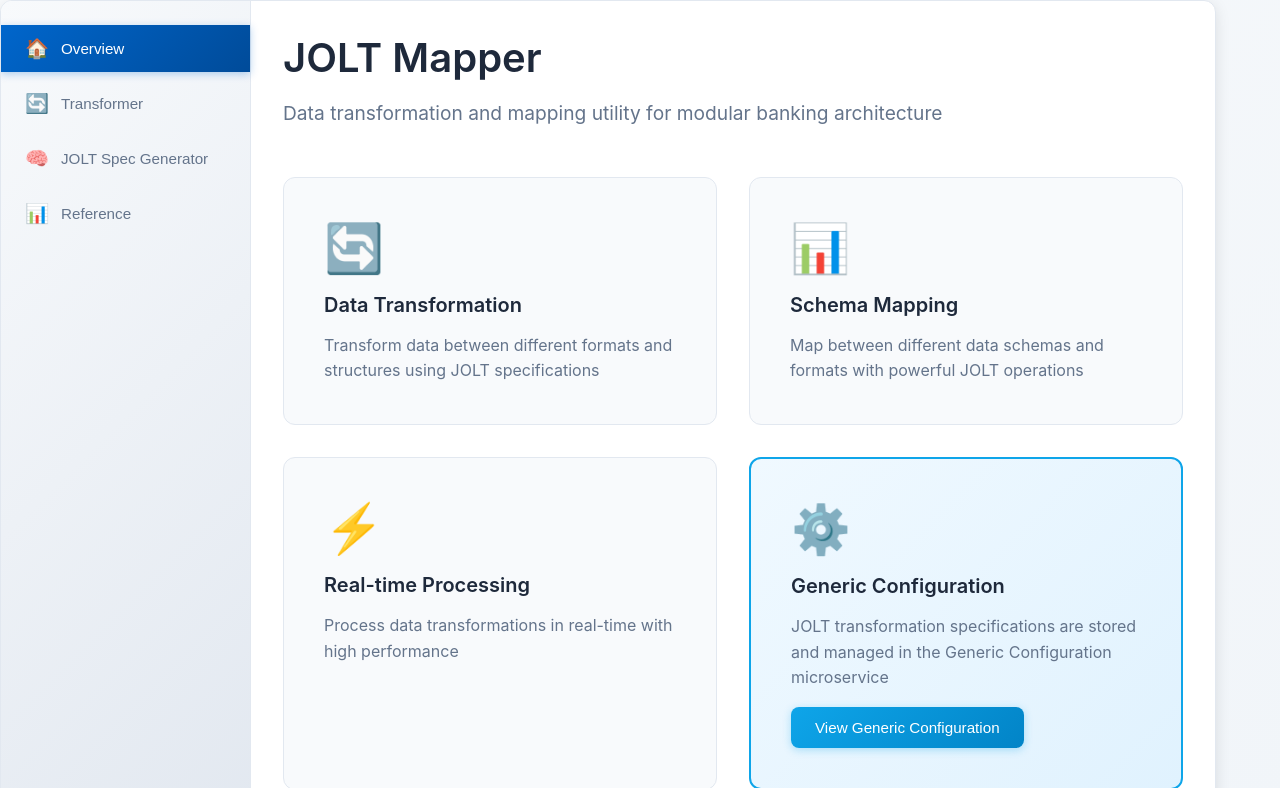
Test: JoltMapper Component › shows generator section when JOLT Spec Generator button is clicked
What coordinates should you click on to do the following:
click the button "🧠 JOLT Spec Generator"
I would click on:
 (126, 158)
Its box is [1,135,250,182].
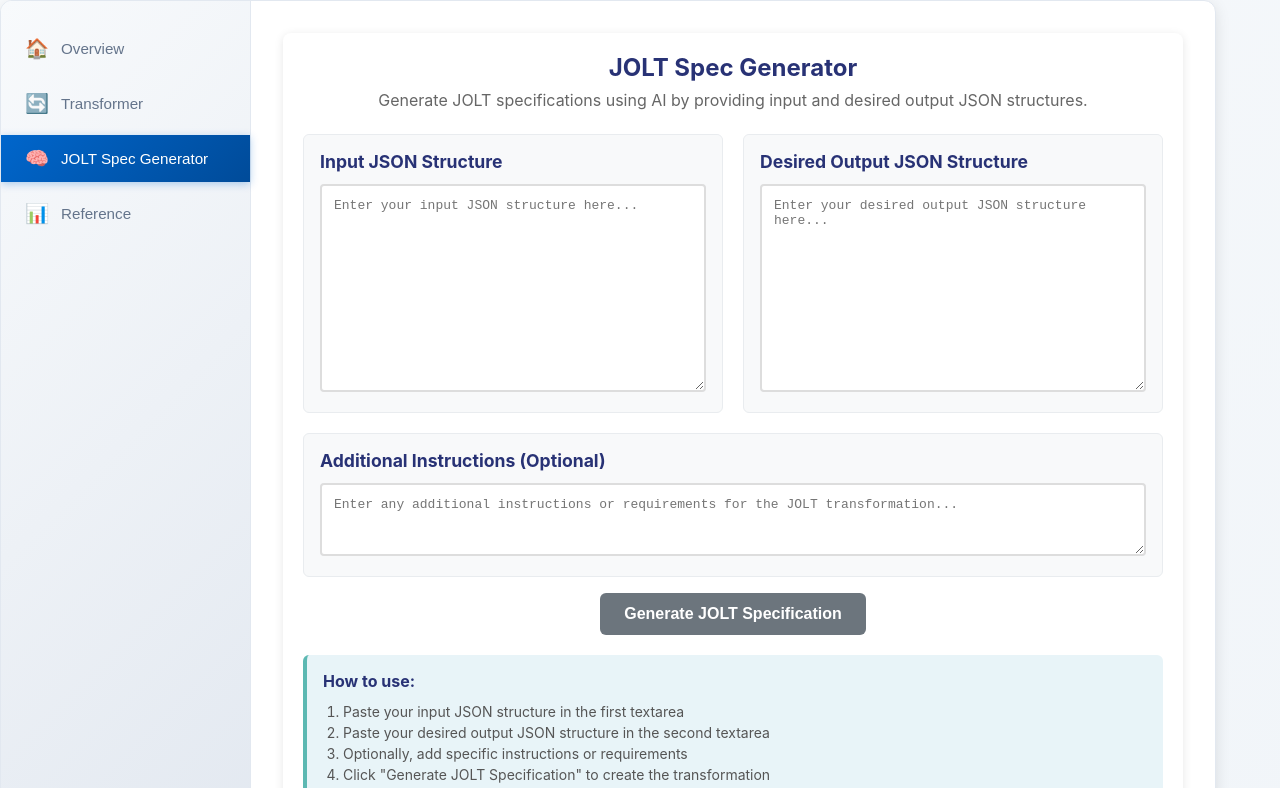
expect the text "Generate JOLT specifications using AI by providing input and desired output JSON structures." is shown: met, box [378,90,1088,110]
